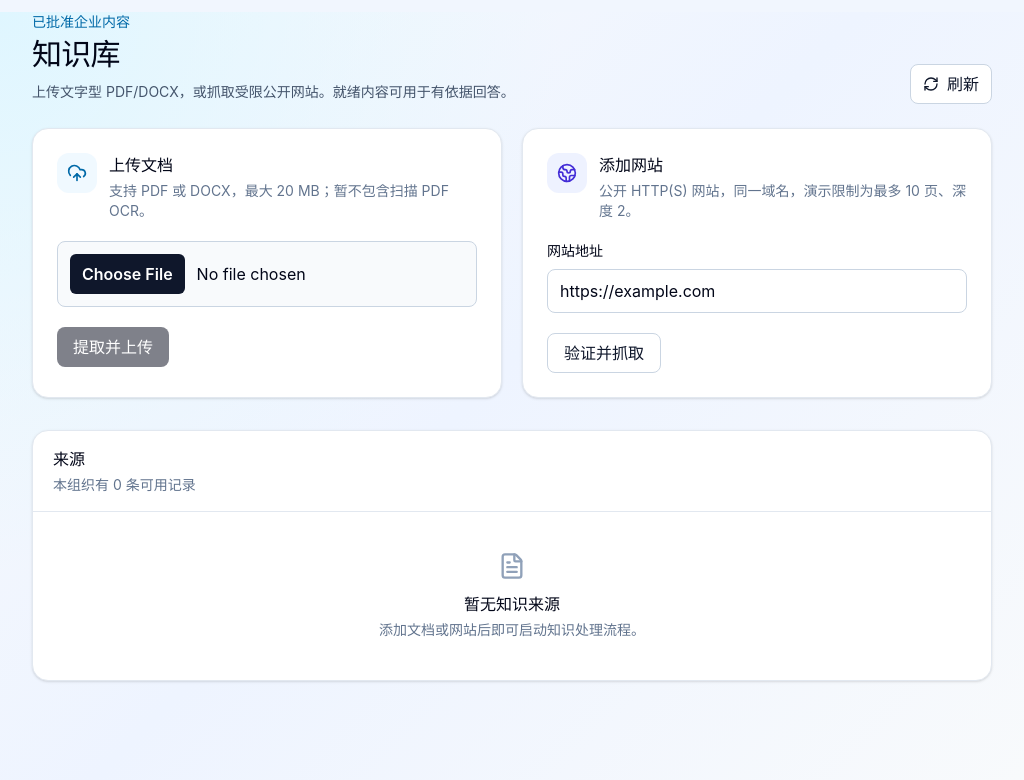
Test: knowledge workspace source management › adds a deliberately resubmitted deleted website to the refreshed source list
Replace the text in the field labelled "网站地址" with "https://appleseedsmhp.com/" at {"x": 757, "y": 291}, box [547, 269, 967, 313]
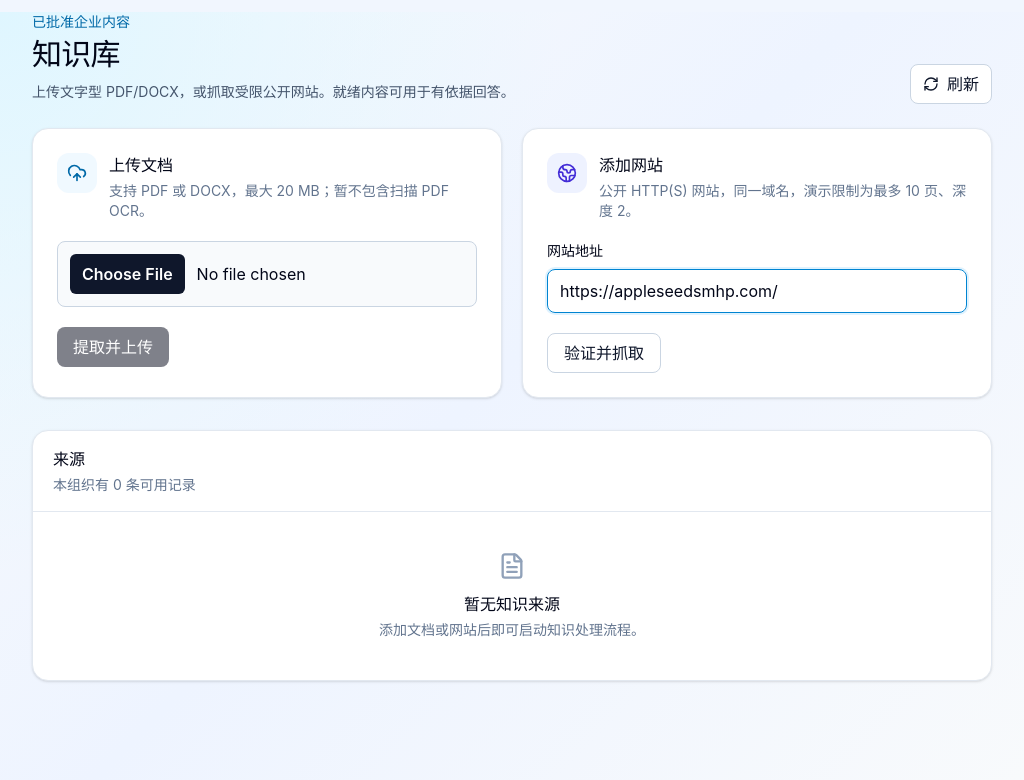
Click the button "验证并抓取" at {"x": 604, "y": 353}, box [547, 333, 661, 373]
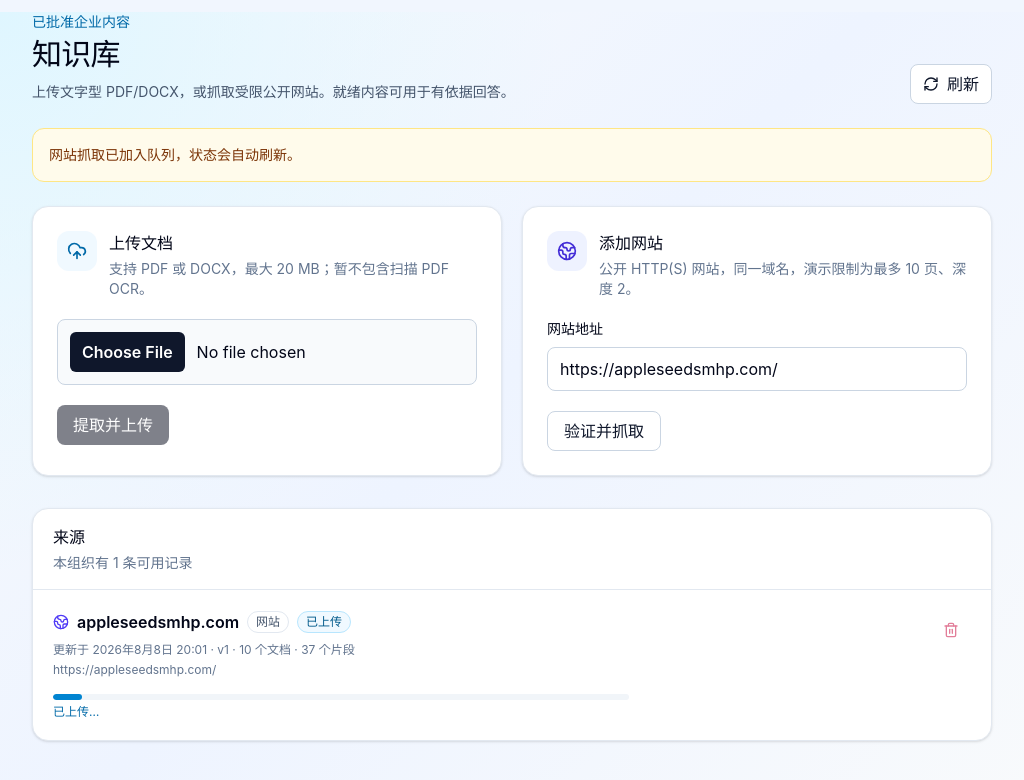
Result: the text "appleseedsmhp.com" is shown at [77, 610, 239, 634]
